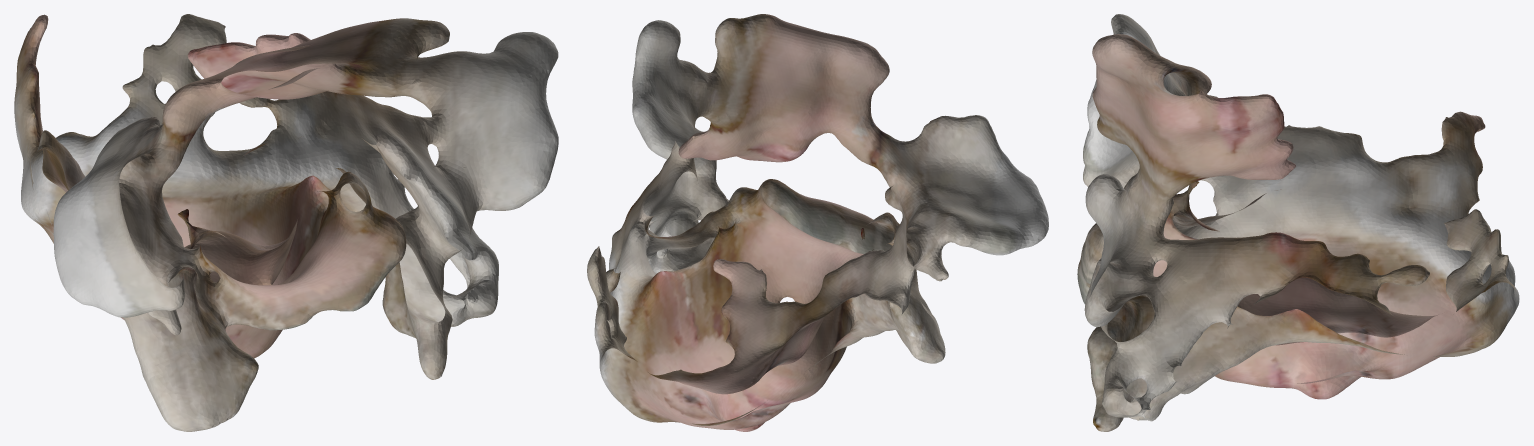
File: emily-dunhill.glb
3 views of the same model, side by side, from view 1: azimuth 30°, elevation 25°; view 2: azimuth 150°, elevation 25°; view 3: azimuth 270°, elevation 25° (orthographic). The views are drawn at different scales.
Parts seen in each view (by area): view 1: world; view 2: world; view 3: world.
Part boxes in pixels (box(x1,y1,x2,y2)): world: box(14, 14, 558, 431); world: box(587, 14, 1048, 431); world: box(1077, 14, 1519, 431).
Size of the model in its own units: 1.86 by 1.39 by 1.58.
